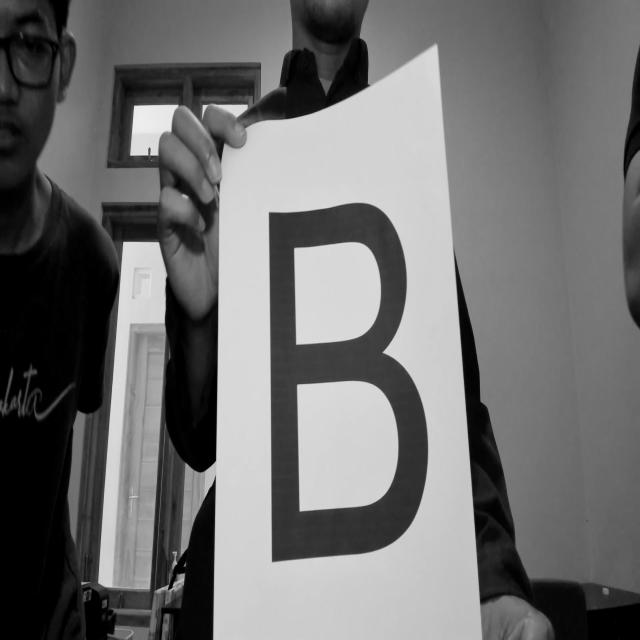b: (254, 186, 465, 586)
